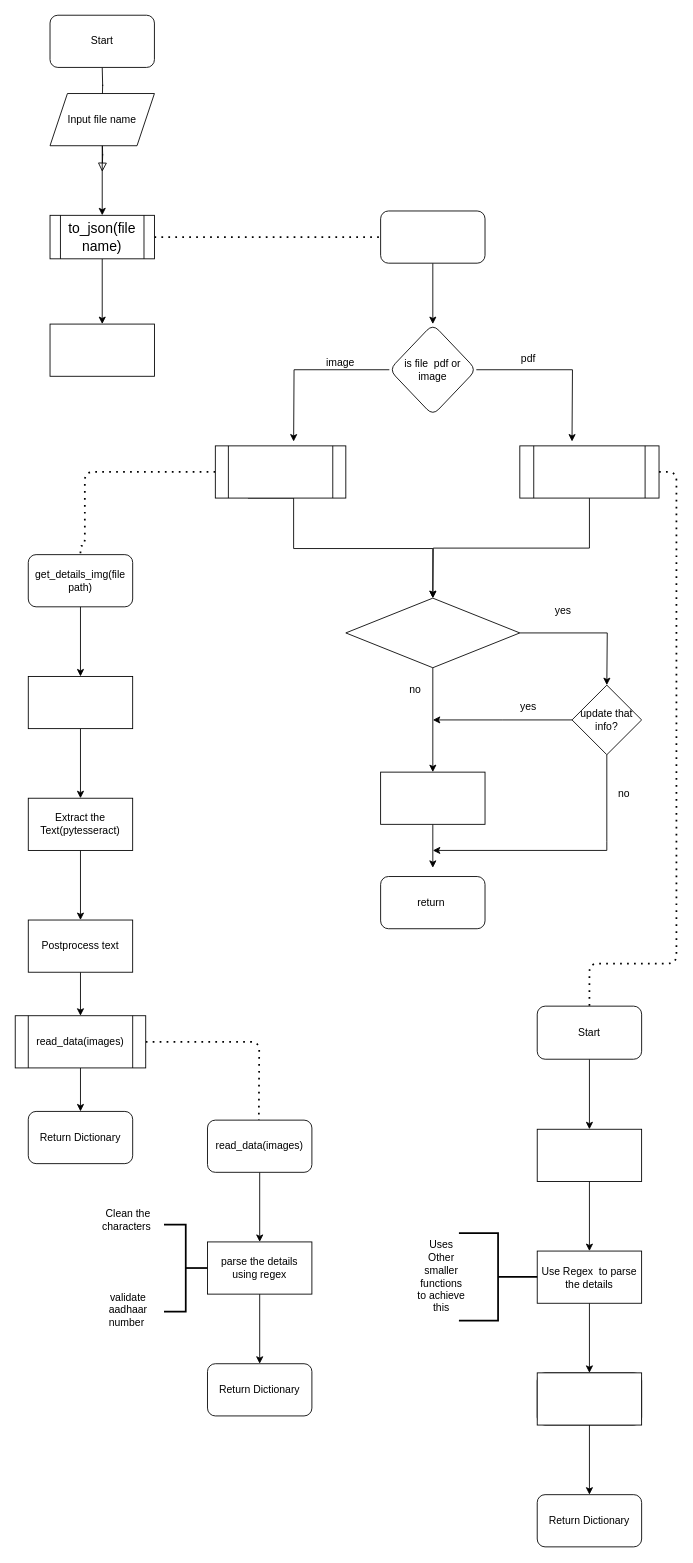
This 693x1563 diagram has some shape labels left out. Each missing label, with the centre of its shape:
"dump info into to json file" belongs at point (432, 797).
"end" belongs at point (101, 349).
"extract text using pymupdf" belongs at point (589, 1154).
"get_details_img(file paths)" belongs at point (280, 471).
"get_details_pdf(path name)" belongs at point (589, 471).
"is the info already in json file?" belongs at point (432, 632).
"Preprocess the images" belongs at point (80, 702).
"put the details in a dictionary" belongs at point (589, 1398).
"to_json(fiel name)" belongs at point (432, 236).
